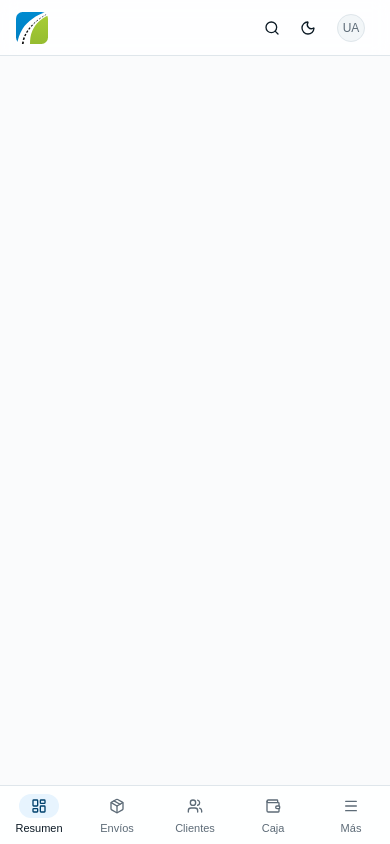
Scenario: AppShell — opciones solo para ADMIN › en móvil, «Más» le muestra al ADMIN todas las demás secciones agrupadas, su perfil y cerrar sesión
Click the button "Más" at coordinates (351, 815), box [312,786,389,843]
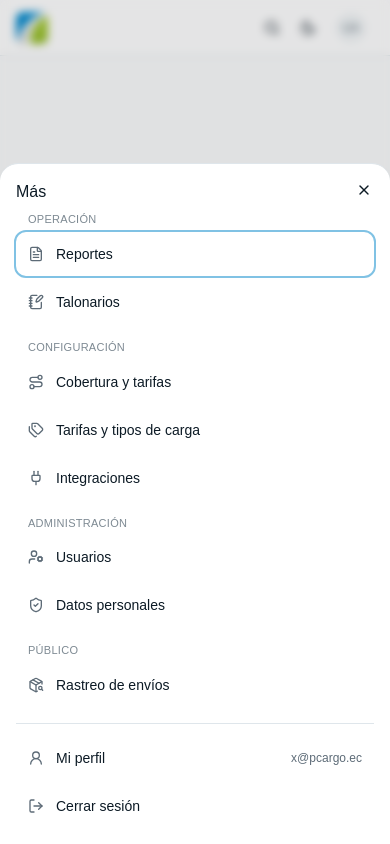
Expected: the text "Administración" is shown, [28,517,127,529]
Expected: the button "Cerrar sesión" is shown, [16,784,374,828]
